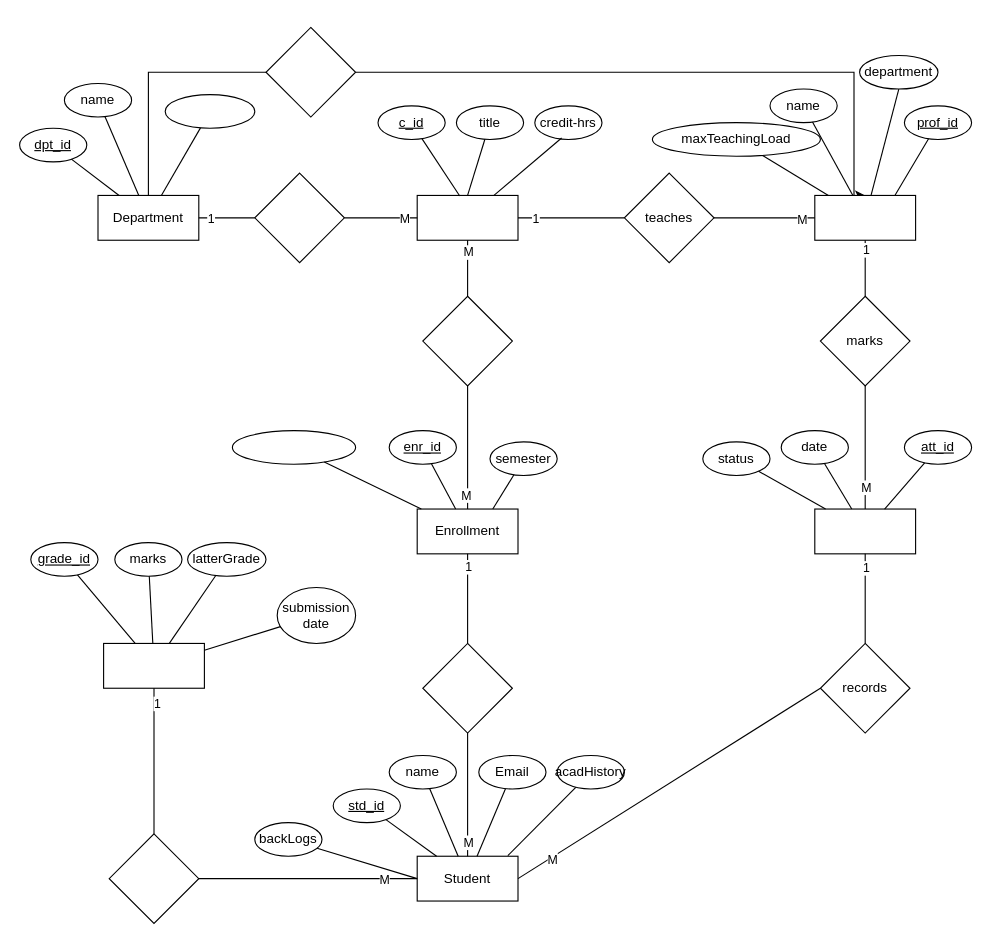
Some shapes in this 991 by 943 pixel diagram are drawn without their labels. The shapes that lost their labels are listed below. From the top down, each one's box as (x1, y1, x2, y2) in pixels, then its label:
(265, 26, 356, 117): empolys
(164, 94, 255, 128): performance
(254, 172, 344, 263): offer
(416, 194, 518, 240): Course
(814, 194, 916, 240): Professor
(422, 295, 512, 386): enroll
(231, 430, 356, 464): improvementOpt
(814, 508, 916, 554): Attendance
(102, 642, 204, 688): Grade
(422, 642, 512, 733): has
(108, 833, 199, 923): receive
